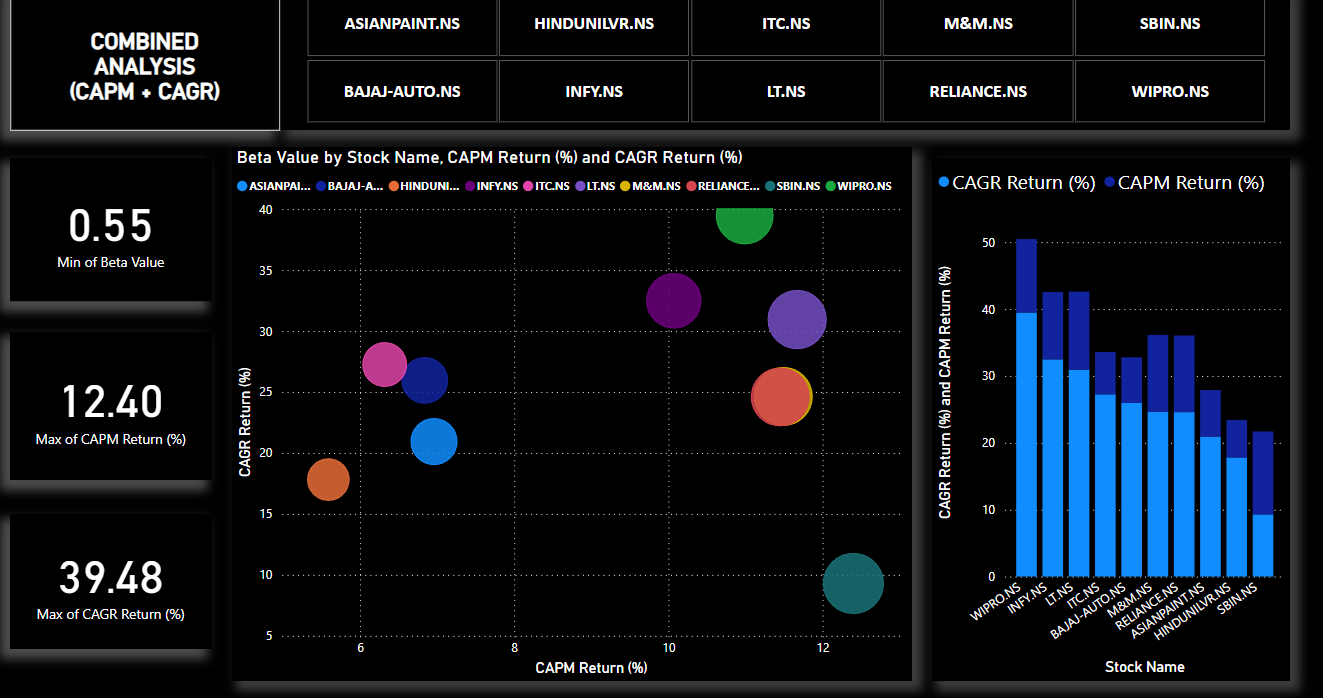

This screenshot's page, from the dashboard's own definition file:
{"tool":"powerbi","page":{"name":"Combined Analysis","canvas":[1280,720],"ordinal":2},"visuals":[{"type":"textbox","box":[11.3,27.4,259.7,138.7],"z":0},{"type":"slicer","fields":{"Values":["Analysis.Stock Name"]},"box":[271.1,26.9,974.7,139.2],"z":1000},{"type":"card","fields":{"Values":["Min(Analysis.Beta Value)"]},"box":[11,193,194.2,138],"z":2000},{"type":"card","fields":{"Values":["Max(Analysis.CAPM Return (%))"]},"box":[11,360.3,194.2,142.9],"z":3000},{"type":"card","fields":{"Values":["Max(Analysis.CAGR Return (%))"]},"box":[11,537.4,194.2,129.5],"z":4000},{"type":"scatterChart","fields":{"X":["Analysis.CAPM Return (%)"],"Y":["Analysis.CAGR Return (%)"],"Series":["Analysis.Stock Name"],"Size":["Sum(Analysis.Beta Value)"]},"box":[224.7,182,657.1,515.4],"z":5000},{"type":"lineStackedColumnComboChart","fields":{"Category":["Analysis.Stock Name"],"Y":["Sum(Analysis.CAGR Return (%))","Sum(Analysis.CAPM Return (%))"]},"box":[900.2,193,345.6,504.4],"z":5001}]}

Visuals, with their boxes on the page's 1280x720 design canvas (x1, y1, x2, y2). These are canvas units, not pixel positions in the 1323x698 screenshot, which may show the page scaled, cropped or inside an application window:
textbox: l=11, t=27, r=271, b=166
slicer - Analysis.Stock Name: l=271, t=27, r=1246, b=166
card - Min(Analysis.Beta Value): l=11, t=193, r=205, b=331
card - Max(Analysis.CAPM Return (%)): l=11, t=360, r=205, b=503
card - Max(Analysis.CAGR Return (%)): l=11, t=537, r=205, b=667
scatterChart - Analysis.CAPM Return (%) x Analysis.CAGR Return (%): l=225, t=182, r=882, b=697
lineStackedColumnComboChart - Analysis.Stock Name x Sum(Analysis.CAGR Return (%)): l=900, t=193, r=1246, b=697
